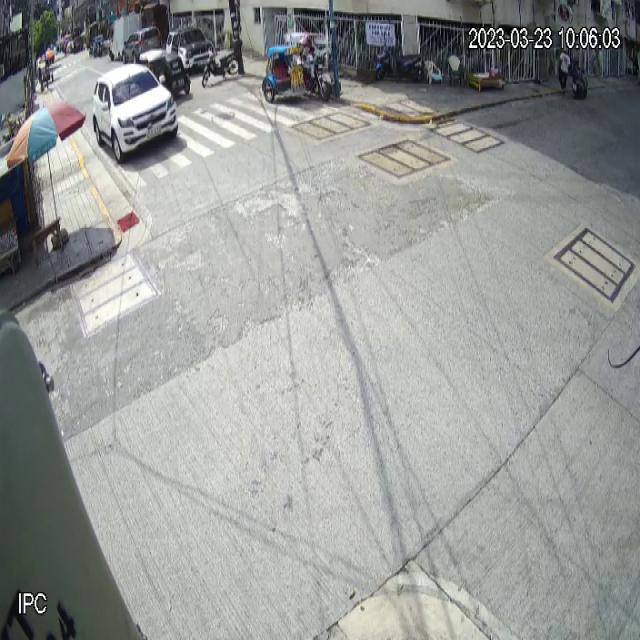Car: (92, 62, 178, 163)
Tricycle: (262, 31, 332, 104)
